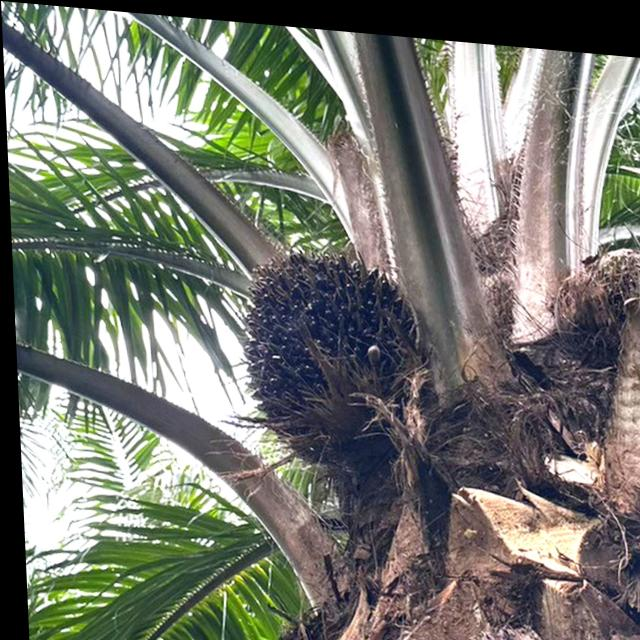unripe: (231, 233, 432, 471)
